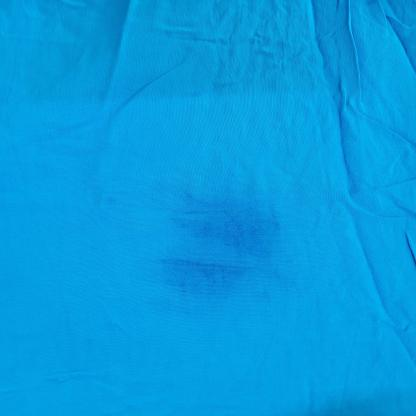spot: (164, 197, 292, 297)
